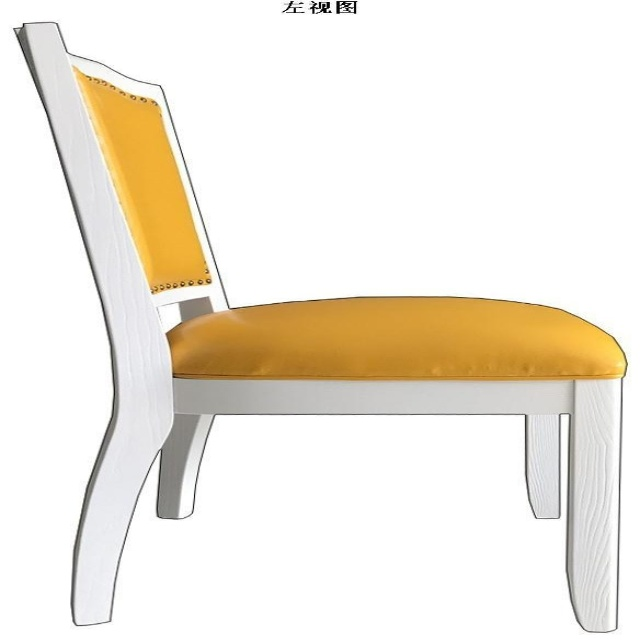obstacle: (18, 22, 625, 632)
